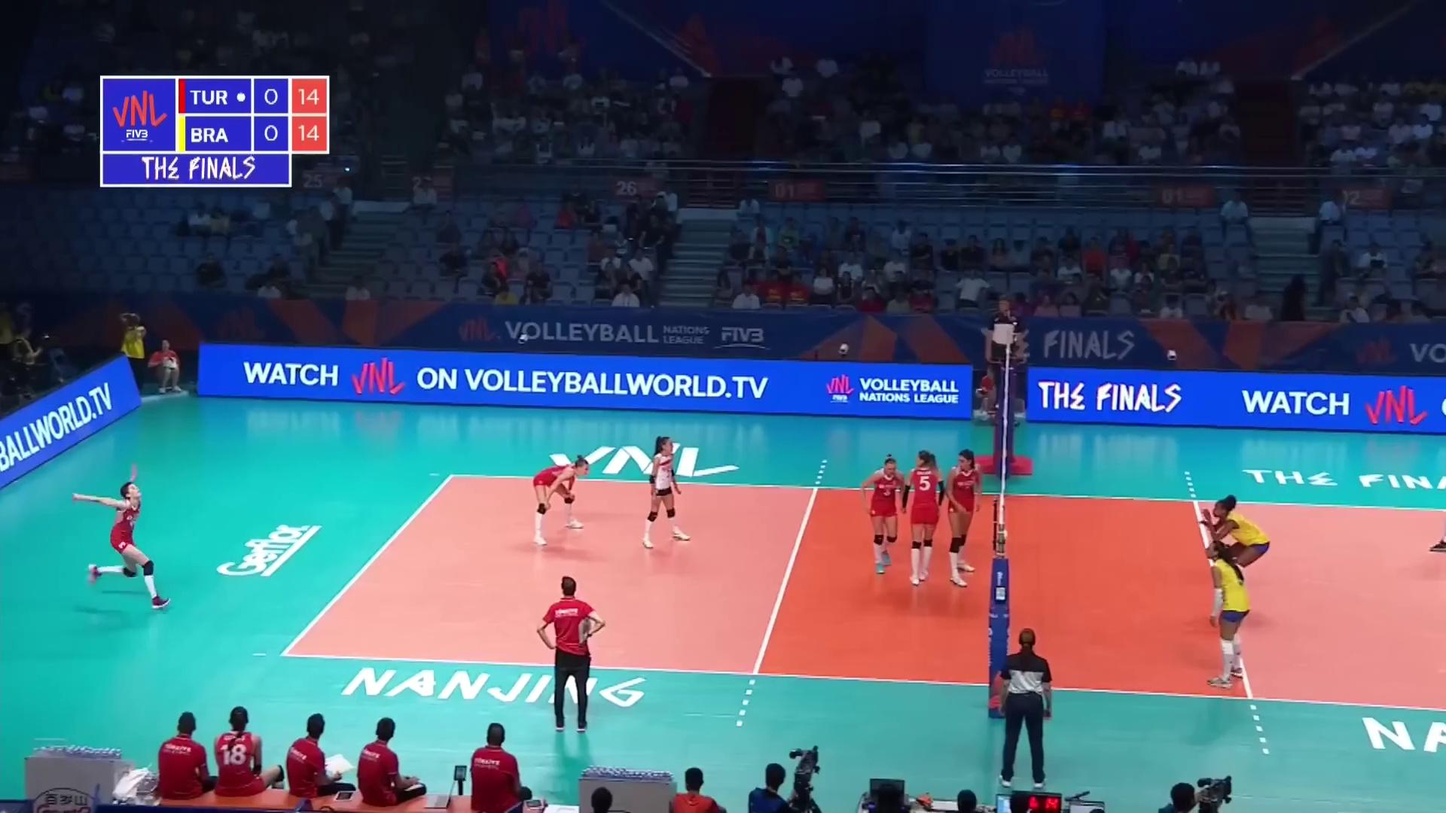player: (79, 467, 161, 611), (1201, 496, 1270, 605), (1207, 542, 1253, 687), (901, 449, 947, 581), (531, 455, 595, 547), (862, 457, 909, 574), (643, 437, 692, 548), (945, 451, 983, 585)
refree: (993, 631, 1051, 789), (988, 298, 1021, 406)
